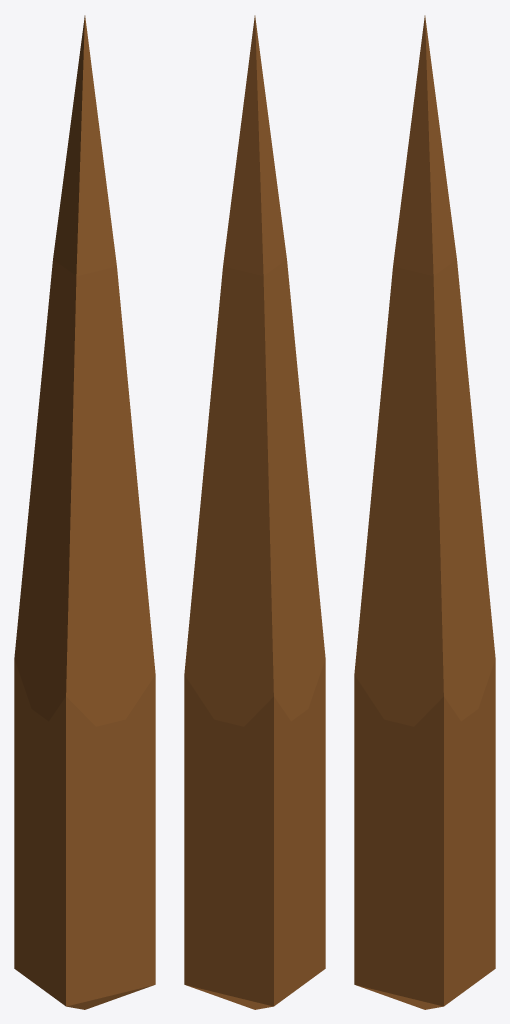
The model's file is stake.glb.
3 views of the same model, side by side, from view 1: azimuth 30°, elevation 25°; view 2: azimuth 150°, elevation 25°; view 3: azimuth 330°, elevation 25° (orthographic).
Parts seen in each view (by area): view 1: Cube; view 2: Cube; view 3: Cube.
Boxes of the visible parts, x1,y1,x2,y2 form: Cube: (14,15,155,1009); Cube: (184,15,325,1009); Cube: (354,15,495,1009).
Size of the model in its own units: 2 by 21.26 by 2.
